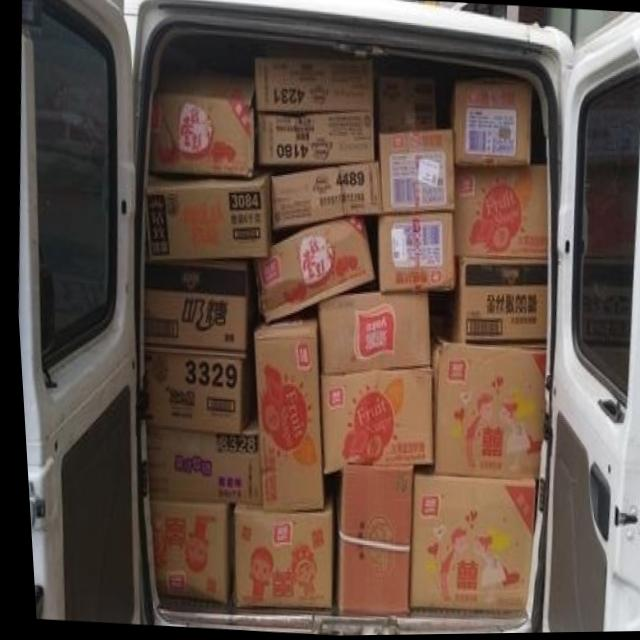box: (424, 316, 542, 477), (401, 474, 530, 614), (248, 306, 318, 510), (226, 473, 329, 610), (140, 60, 252, 178), (249, 217, 372, 324), (142, 165, 268, 262), (324, 468, 409, 611), (315, 365, 427, 472), (141, 254, 246, 359), (139, 341, 251, 433), (142, 410, 256, 498), (316, 290, 427, 373), (145, 496, 230, 601), (451, 167, 544, 261), (252, 40, 374, 111), (443, 260, 543, 346), (270, 163, 378, 229), (453, 79, 529, 167), (253, 109, 370, 163), (374, 212, 451, 291), (377, 132, 450, 214), (378, 72, 434, 137)
